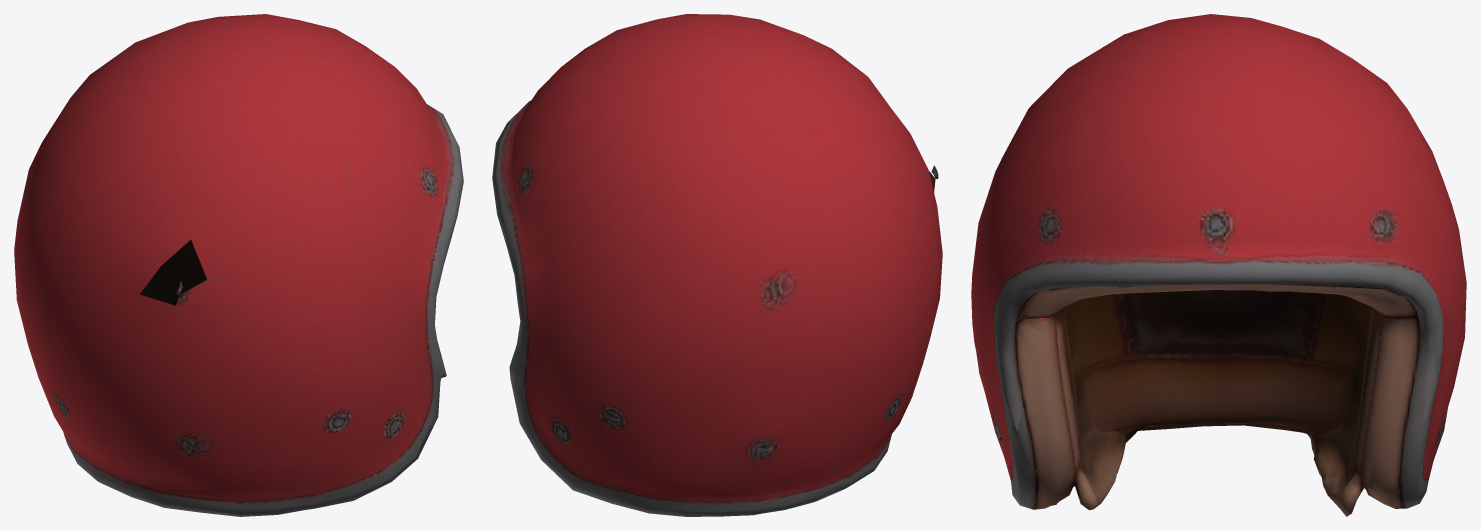
Rendered from tripo_convert_33d567f2-2fe1-4ccb-887d-10e3090ebde6.fbx.
The picture shows the model from 3 angles, left to right: view 1: azimuth 30°, elevation 25°; view 2: azimuth 150°, elevation 25°; view 3: azimuth 270°, elevation 25°; orthographic projection. The views are drawn at different scales.
Parts seen in each view (by area): view 1: tripo_node_33d567f2; view 2: tripo_node_33d567f2; view 3: tripo_node_33d567f2.
Part boxes in pixels (x1,y1,x2,y2): tripo_node_33d567f2: (14,14,463,516); tripo_node_33d567f2: (492,14,942,516); tripo_node_33d567f2: (971,14,1466,516).
Bounding box in the file's own units: 0.9604 × 0.972 × 0.9575.
1 material, 1 textured.
